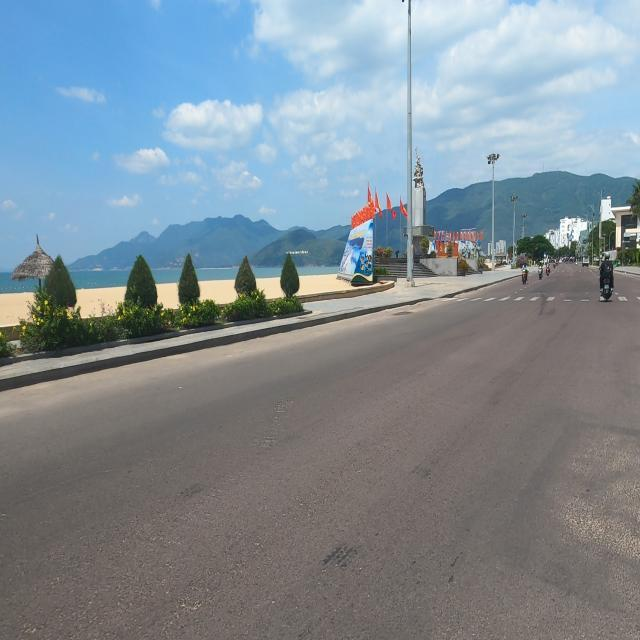walk-crossing: (441, 292, 640, 302)
